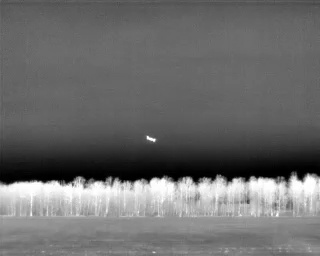DRONE: (141, 130, 161, 149)
